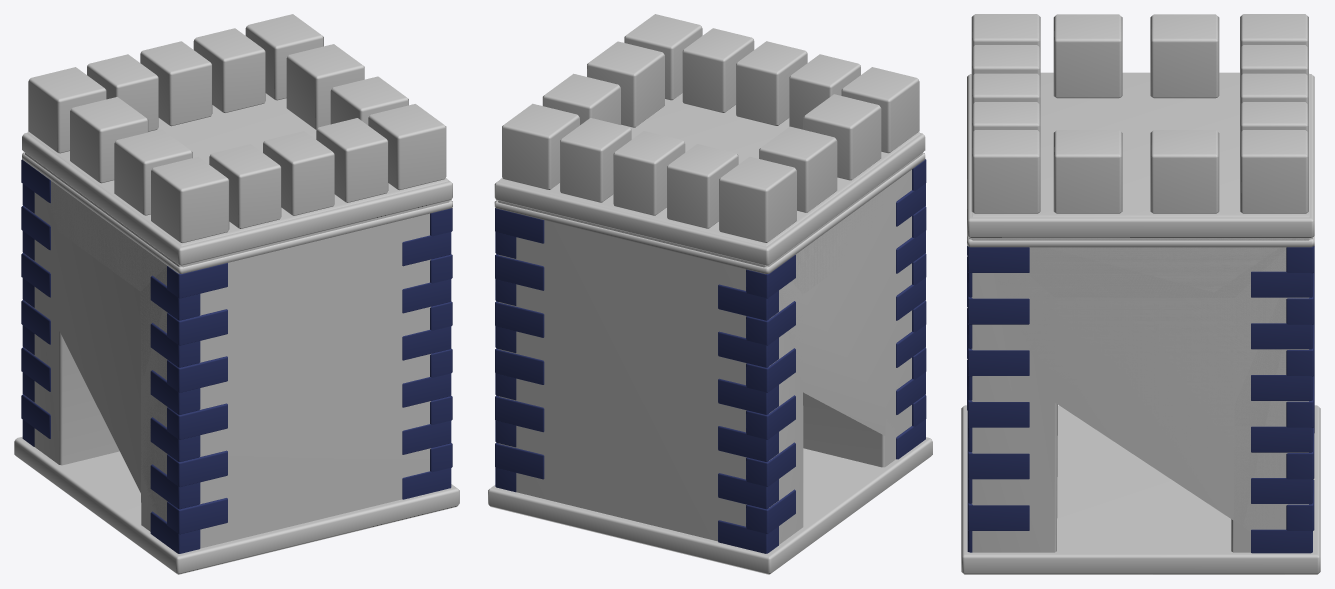
The model's file is tunnel.fbx.
The picture shows the model from 3 angles, left to right: view 1: azimuth 30°, elevation 25°; view 2: azimuth 150°, elevation 25°; view 3: azimuth 270°, elevation 25°; orthographic projection. The views are drawn at different scales.
Visible parts, largest first — view 1: polySurface6; view 2: polySurface6; view 3: polySurface6.
Boxes of the visible parts, x1=… form: polySurface6: x1=14, y1=14, x2=459, y2=574; polySurface6: x1=488, y1=14, x2=932, y2=574; polySurface6: x1=961, y1=14, x2=1320, y2=574.
Bounding box in the file's own units: 414 × 531 × 416.
